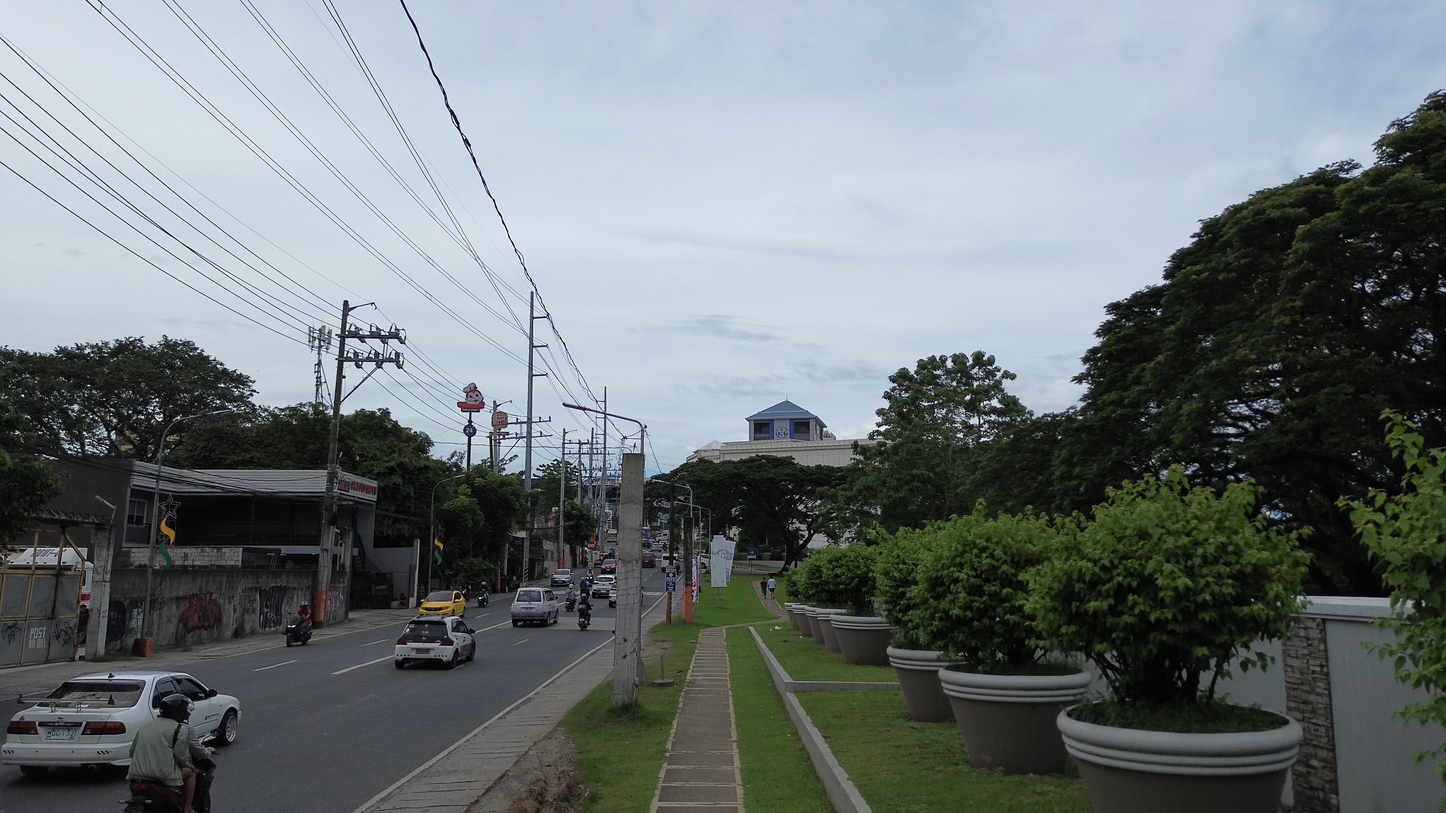car: (0, 672, 238, 775), (394, 615, 474, 668), (418, 590, 466, 617), (551, 569, 572, 587)
motorcycle: (124, 780, 183, 813), (285, 616, 311, 647), (578, 605, 590, 631), (565, 589, 577, 612)
vehicle: (511, 587, 561, 627), (591, 574, 615, 597), (578, 604, 590, 631), (565, 585, 577, 612), (599, 556, 617, 574), (641, 551, 656, 568), (607, 585, 618, 608), (697, 554, 710, 571)
